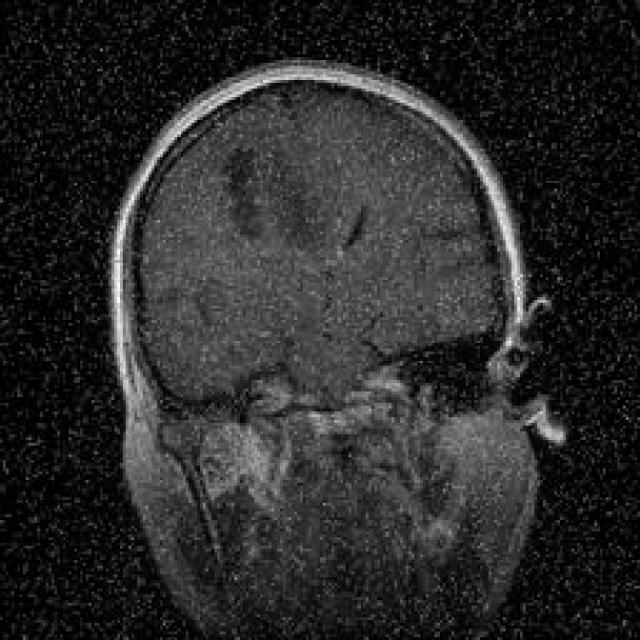glioma_tumor: (206, 118, 336, 262)
